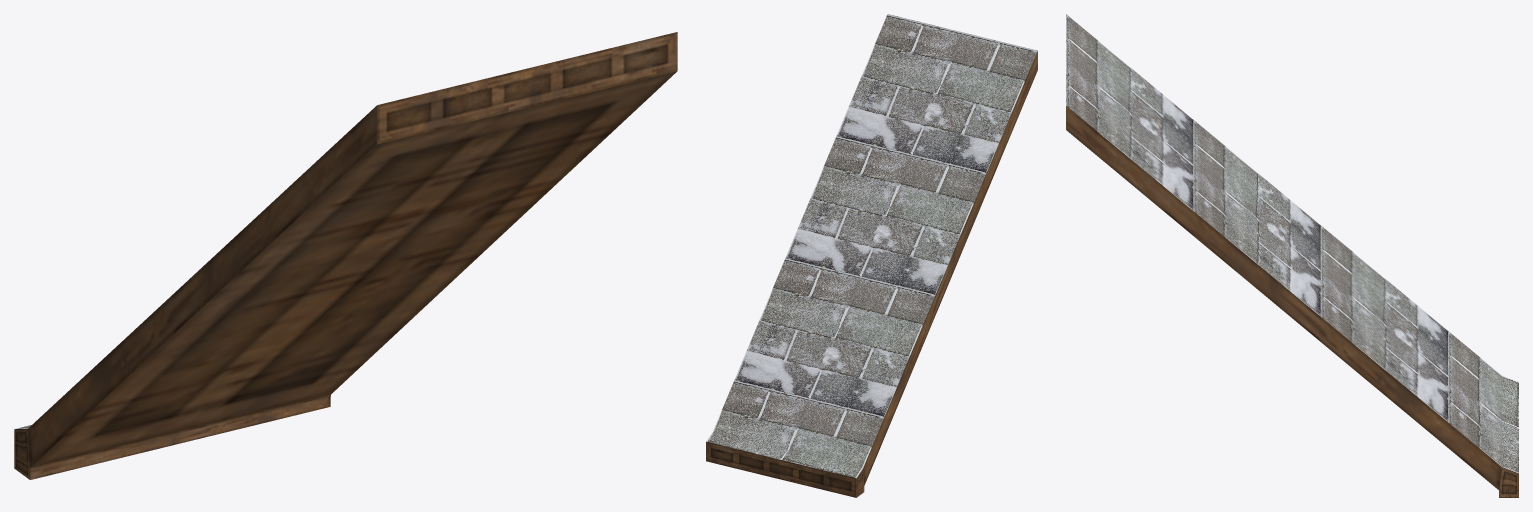
The model's file is Roof_6x6.275.fbx.
The picture shows the model from 3 angles, left to right: view 1: azimuth 30°, elevation 25°; view 2: azimuth 150°, elevation 25°; view 3: azimuth 270°, elevation 25°; orthographic projection. The views are drawn at different scales.
Visible parts, largest first — view 1: Roof_6x6.275; view 2: Roof_6x6.275; view 3: Roof_6x6.275.
Part boxes in pixels (box(x1,y1,x2,y2)): Roof_6x6.275: box(14, 32, 677, 479); Roof_6x6.275: box(706, 14, 1037, 497); Roof_6x6.275: box(1066, 14, 1518, 497).
Size of the model in its own units: 300 by 600 by 628.
